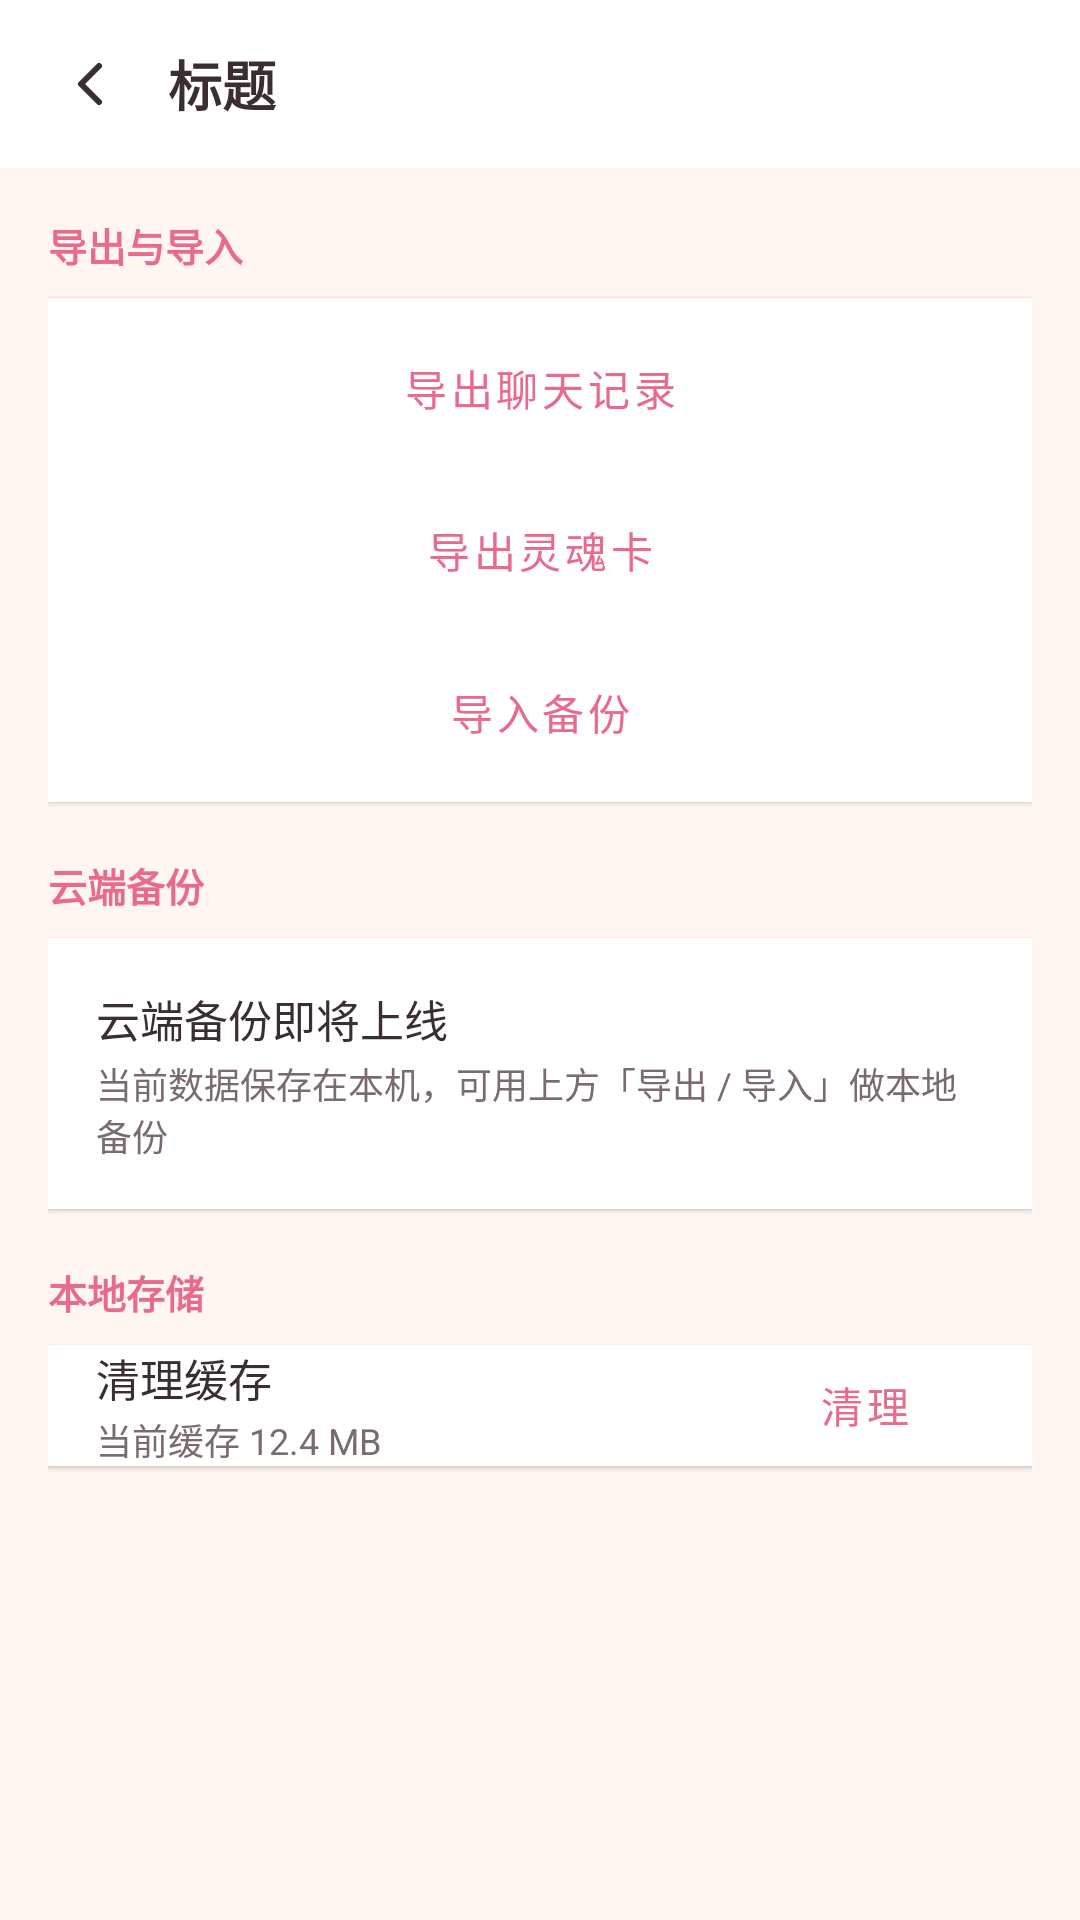

Icons on this 1080px x 1920px Android screen, each with its box as detection(x1, y1, x2, y2):
返回: detection(78, 63, 102, 105)
